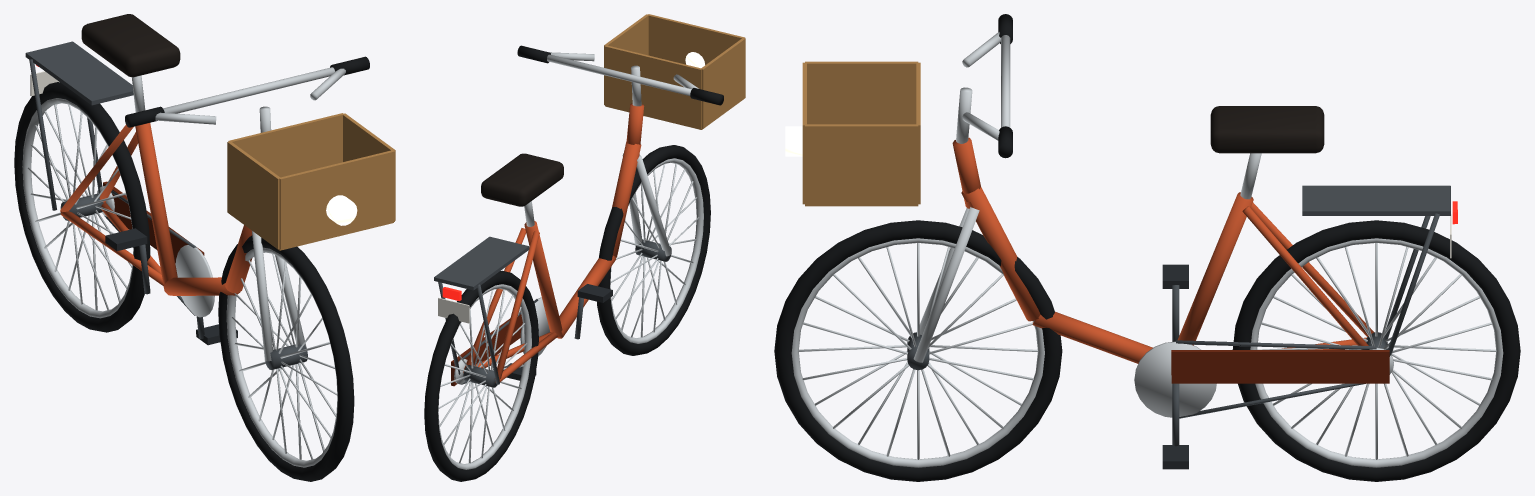
Rendered from bicycle.glb.
3 renders of one model, left to right at view 1: azimuth 30°, elevation 25°; view 2: azimuth 150°, elevation 25°; view 3: azimuth 270°, elevation 25°, orthographic. The views are drawn at different scales.
Visible parts, largest first — view 1: SteerParts, Body, WheelFront, WheelRear; view 2: Body, SteerParts, WheelRear, WheelFront; view 3: Body, WheelFront, SteerParts, WheelRear.
Boxes of the visible parts, x1,y1,x2,y2 form: SteerParts: [125, 56, 395, 361]; Body: [25, 14, 252, 345]; WheelFront: [218, 235, 354, 481]; WheelRear: [14, 82, 150, 332]; Body: [434, 103, 644, 386]; SteerParts: [517, 14, 745, 256]; WheelRear: [424, 270, 538, 481]; WheelFront: [597, 145, 710, 355]; Body: [952, 106, 1457, 469]; WheelFront: [774, 220, 1062, 481]; SteerParts: [785, 14, 1012, 362]; WheelRear: [1232, 220, 1520, 481].
Bounding box in the file's own units: 0.709 × 1.02 × 1.71.
